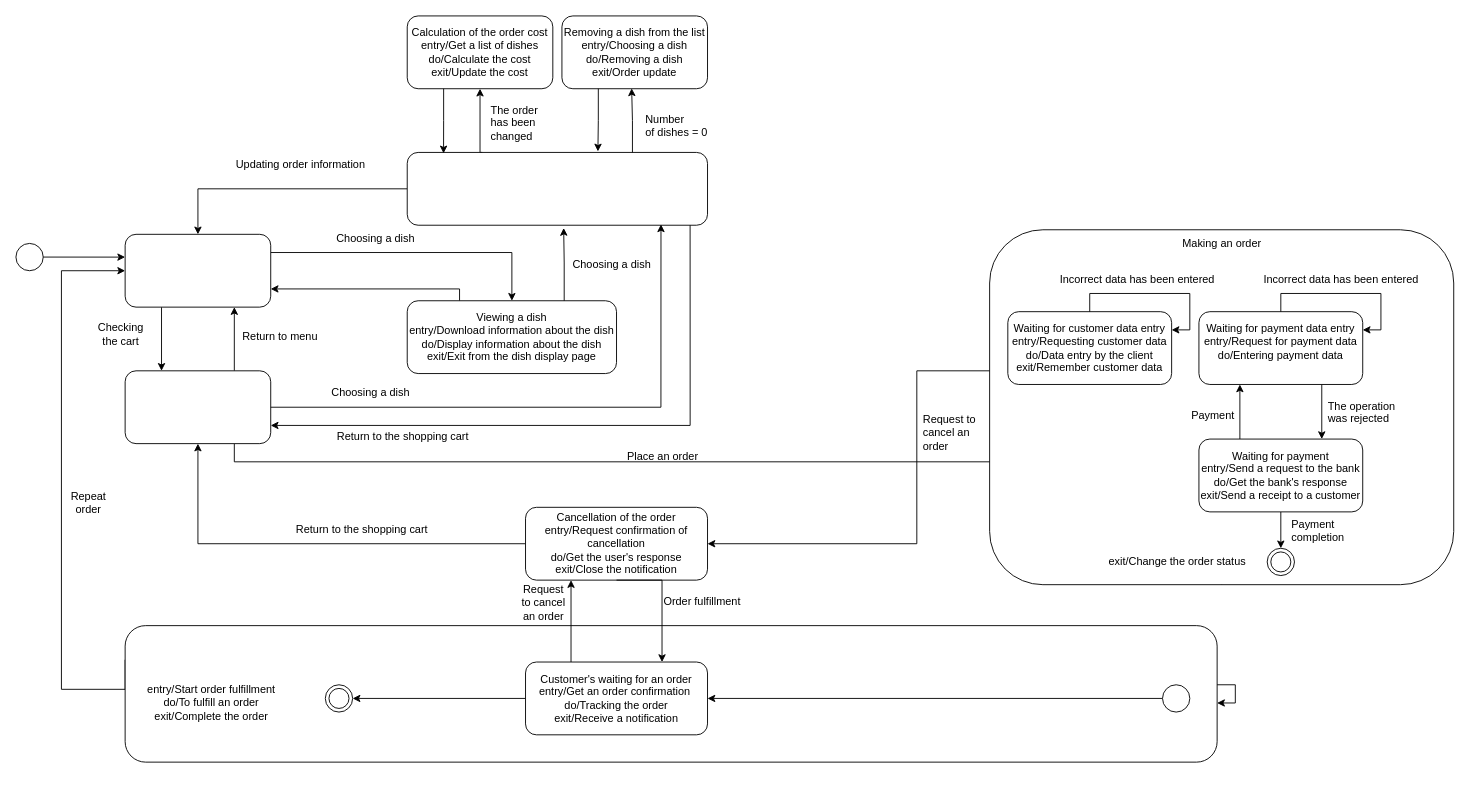
Image size: 1470x785. Some labels were removed from this diagram. The shapes that lost their labels are listed below. From the top down, each one's box as (x1, y1, x2, y2) in pixels, then its label:
(406, 152, 708, 225): Changing the order entry/Choose dish do/Select the quantity exit/Update order
(124, 233, 271, 307): Viewing the menu entry/Download menu do/View the menu exit/Exit from menu
(124, 370, 271, 444): Viewing the order entry/Download the order do/View the order exit/Exit from cart
